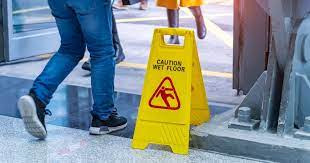wet caution sign: (133, 22, 218, 156)
